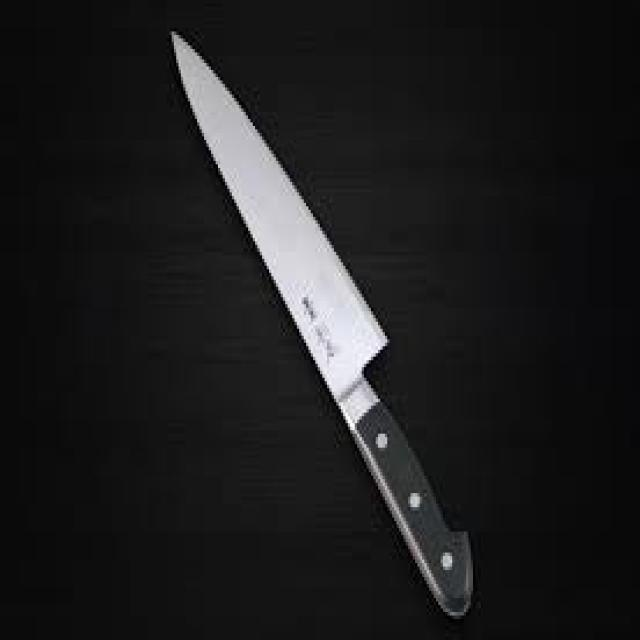Knife: (167, 28, 473, 619)
